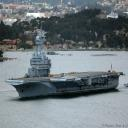Portanaves: (7, 24, 126, 102)
